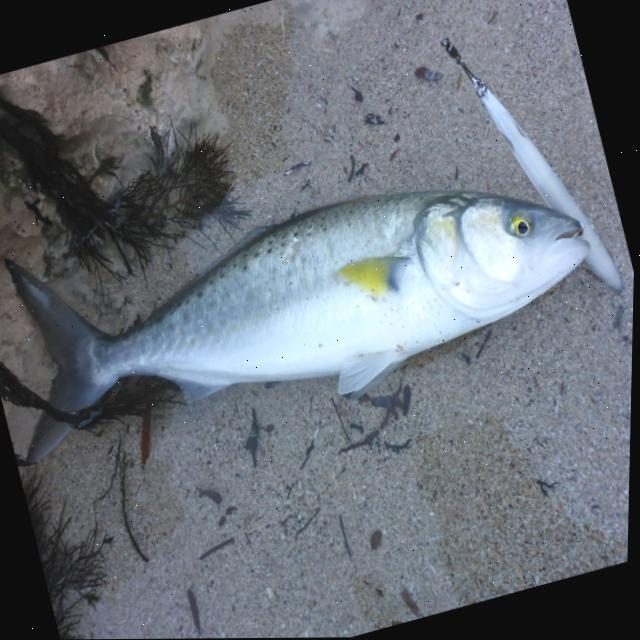Australian Salmon: (0, 88, 616, 491)
